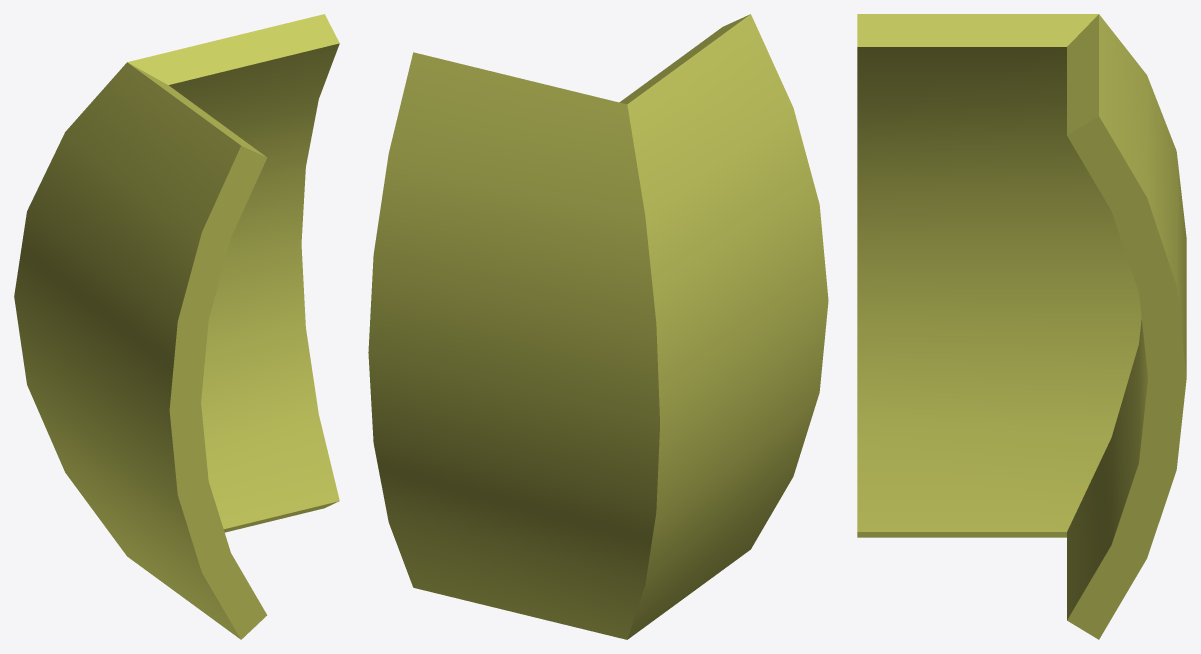
The model's file is RoundCorr_Wall_CornerInBig_A.FBX.
3 renders of one model, left to right at view 1: azimuth 30°, elevation 25°; view 2: azimuth 150°, elevation 25°; view 3: azimuth 270°, elevation 25°, orthographic. The views are drawn at different scales.
Visible parts, largest first — view 1: RoundCorr_Wall_CornerInBig_A; view 2: RoundCorr_Wall_CornerInBig_A; view 3: RoundCorr_Wall_CornerInBig_A.
Boxes of the visible parts, x1,y1,x2,y2 form: RoundCorr_Wall_CornerInBig_A: (14, 14, 339, 639); RoundCorr_Wall_CornerInBig_A: (368, 14, 828, 639); RoundCorr_Wall_CornerInBig_A: (857, 14, 1186, 639).
Bounding box in the file's own units: 171 × 300 × 171.
